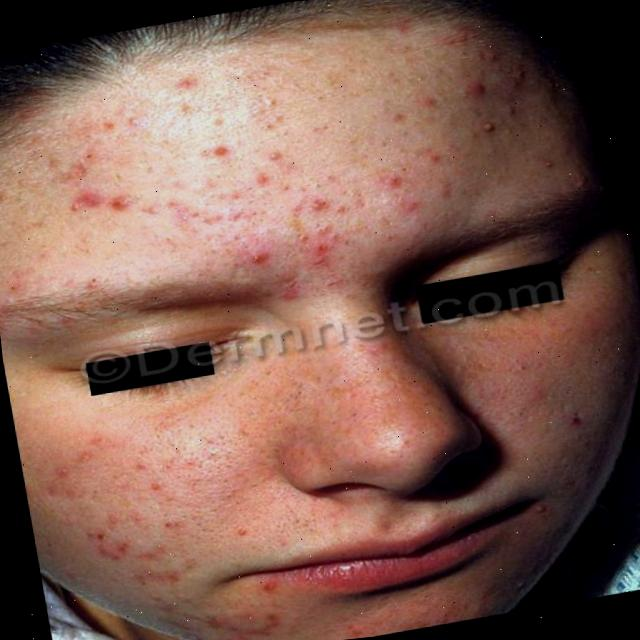skinredness: (0, 0, 617, 339)
